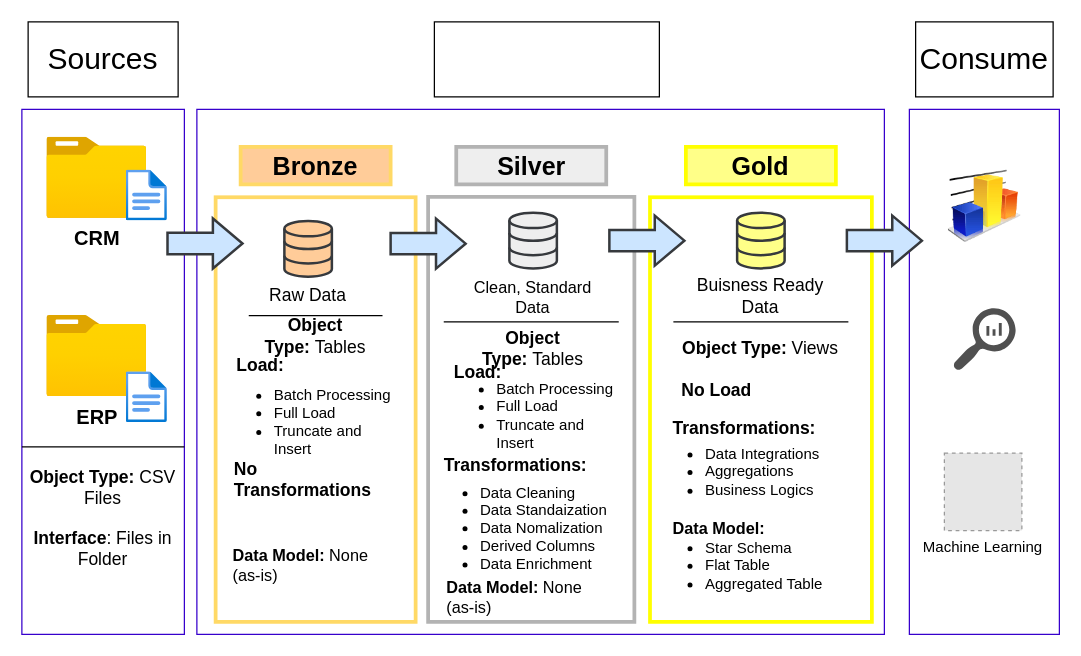
This 1081x656 diagram has some shape labels left out. Grey dashed boxes stand in for pictures. The shapes that lost their labels are listed below. From the top down, each one's centre as x and y in pixels, then its label:
At (546,59): "Data Warehouse".
At (983,206): "BI & Reporting".
At (983,339): "Ad - Hoc SQL Queries".
